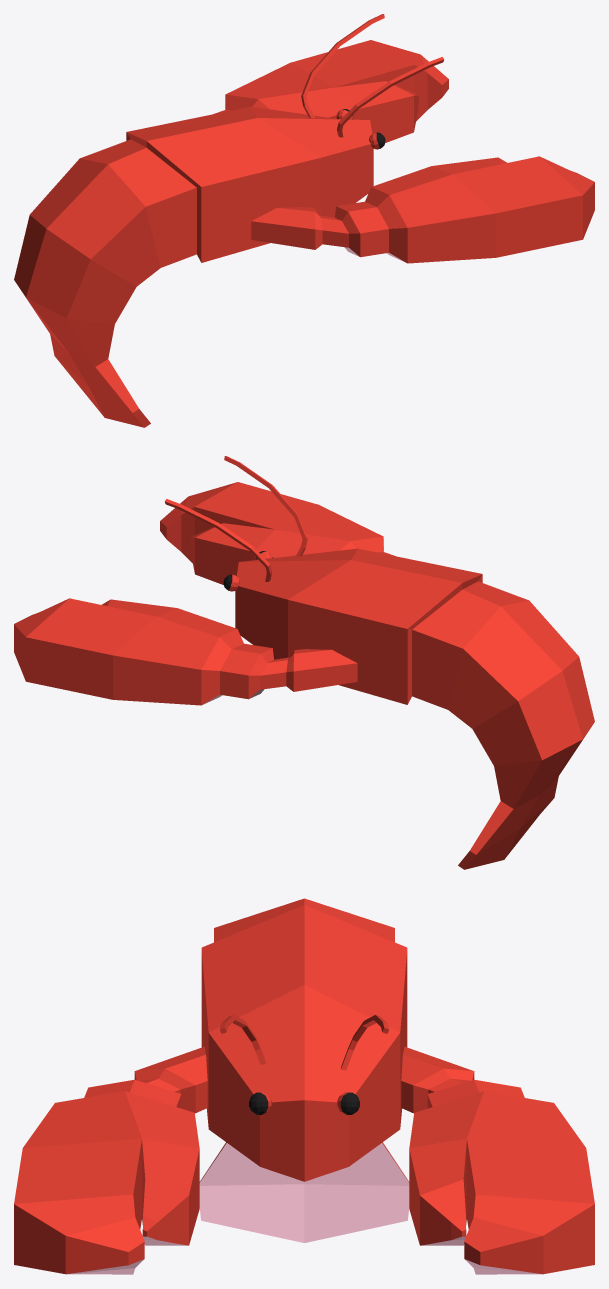
The model's file is Lobster2.glb.
The picture shows the model from 3 angles, top to bottom: view 1: azimuth 30°, elevation 25°; view 2: azimuth 150°, elevation 25°; view 3: azimuth 270°, elevation 25°; orthographic projection. The views are drawn at different scales.
Visible parts, largest first — view 1: Lobster_Cube.026; view 2: Lobster_Cube.026; view 3: Lobster_Cube.026.
Part boxes in pixels (left/top/right/bottom): Lobster_Cube.026: left=14, top=14, right=594, bottom=427; Lobster_Cube.026: left=14, top=456, right=594, bottom=869; Lobster_Cube.026: left=14, top=898, right=594, bottom=1274.
Size of the model in its own units: 16.39 by 9.87 by 12.36.
